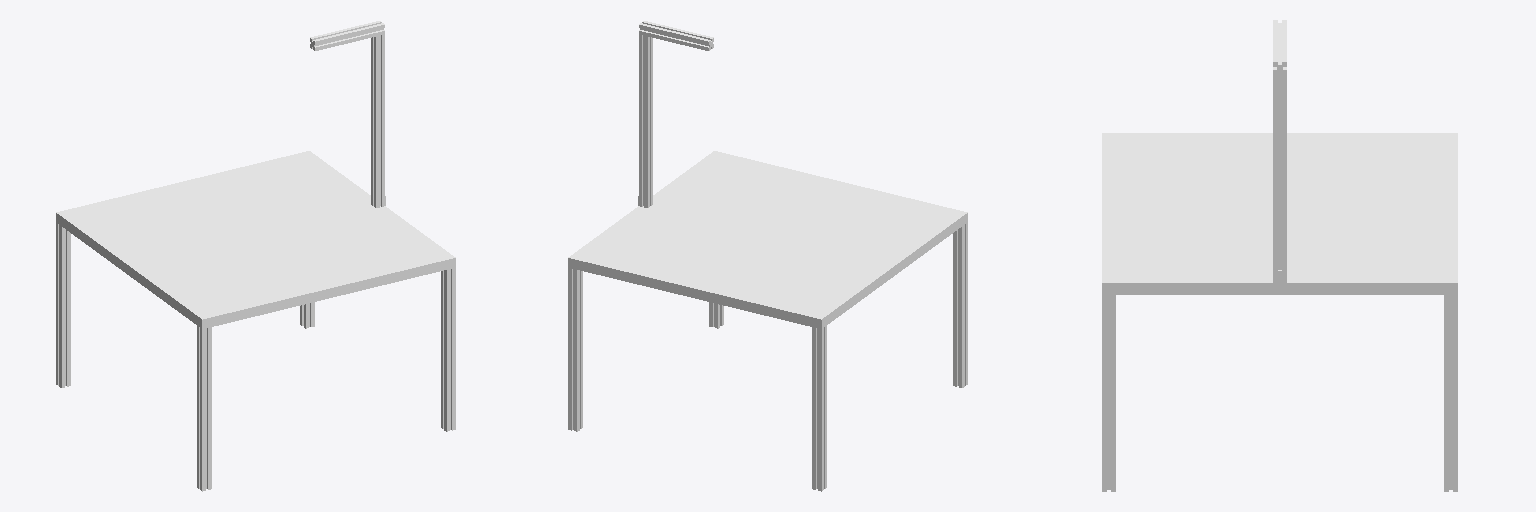
robot.urdf — table_2.urdf:
<?xml version="1.0" ?>
<robot name="table_2.urdf">
  <link name="base">
    <!-- <contact>
      <lateral_friction value="1.0"/>
    </contact> -->
    <inertial>
      <origin rpy="0 0 0" xyz="0 0 0"/>
       <mass value=".0"/>
       <inertia ixx="1" ixy="0" ixz="0" iyy="1" iyz="0" izz="1"/>
    </inertial>
    
    <visual>
      <origin rpy="0 0 0" xyz="0 0 0"/>
      <geometry>
            <mesh filename="table_2_main.obj" scale="1 1 1"/>
      </geometry>
       <material name="white">
        <color rgba="1 1 1 1"/>
      </material>
    </visual>
    <visual>
      <origin rpy="0 0 0" xyz="0 0 0"/>
      <geometry>
            <mesh filename="table_2_beam_1.obj" scale="1 1 1"/>
      </geometry>
       <material name="white">
        <color rgba="1 1 1 1"/>
      </material>
    </visual>
    <visual>
      <origin rpy="0 0 0" xyz="0 0 0"/>
      <geometry>
            <mesh filename="table_2_beam_2.obj" scale="1 1 1"/>
      </geometry>
       <material name="white">
        <color rgba="1 1 1 1"/>
      </material>
    </visual>
    
    <collision>
      <origin rpy="0 0 0" xyz="0 0 0"/>
      <geometry>
 	    <mesh filename="table_2_main.obj" scale="1 1 1"/>
      </geometry>
    </collision>
    <collision>
      <origin rpy="0 0 0" xyz="0 0 0"/>
      <geometry>
            <mesh filename="table_2_beam_1.obj" scale="1 1 1"/>
      </geometry>
    </collision>
    <collision>
      <origin rpy="0 0 0" xyz="0 0 0"/>
      <geometry>
            <mesh filename="table_2_beam_2.obj" scale="1 1 1"/>
      </geometry>
    </collision>
  </link>
</robot>

--- Render facts (derived) ---
Views: 3 orthographic renders of the robot side by side, from view 1: azimuth 30°, elevation 25°; view 2: azimuth 150°, elevation 25°; view 3: azimuth 270°, elevation 25°.
Robot: table_2.urdf — 1 links, 0 joints (none); root link base; default pose: all joints at 0.
Links seen in each view (by area): view 1: base; view 2: base; view 3: base.
Boxes of the visible links, x1,y1,x2,y2 form: base: [56, 21, 455, 491]; base: [568, 21, 967, 491]; base: [1102, 20, 1457, 491].
Bounding box of the posed robot: 1.08 × 1.08 × 1.44 m (x, y, z).
Meshes: 3 distinct files referenced, 3 mesh visuals loaded (3 OBJ).